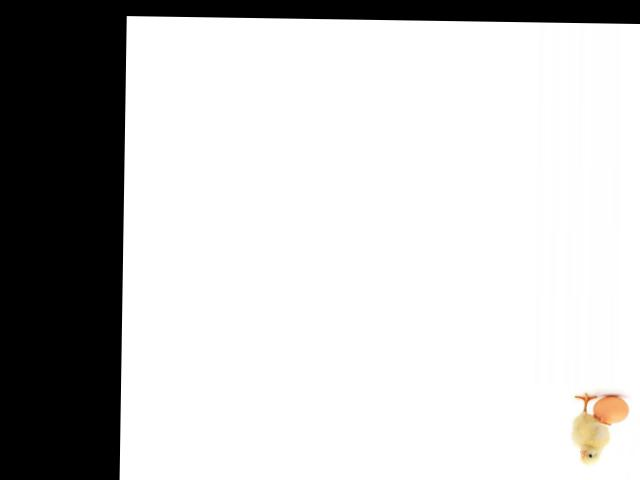egg: (591, 395, 629, 424)
